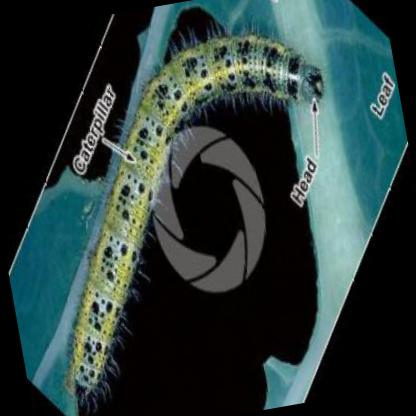pieris: (70, 32, 325, 406)
